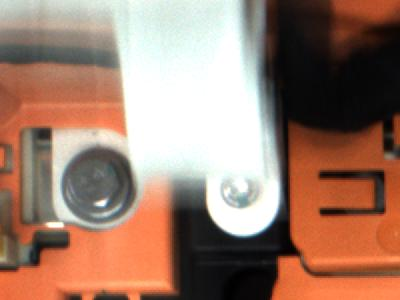nut_b: (54, 143, 141, 226)
